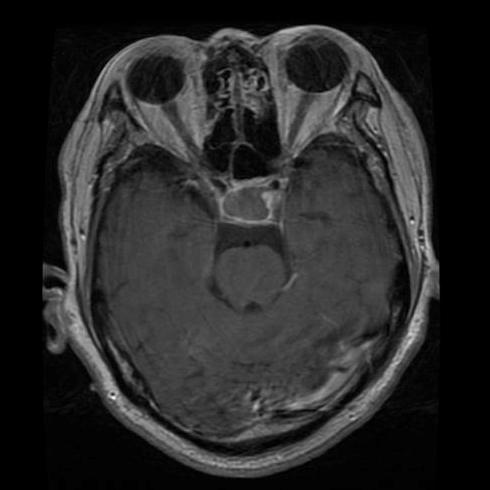Tumour-Pituitary: (197, 179, 300, 235)
